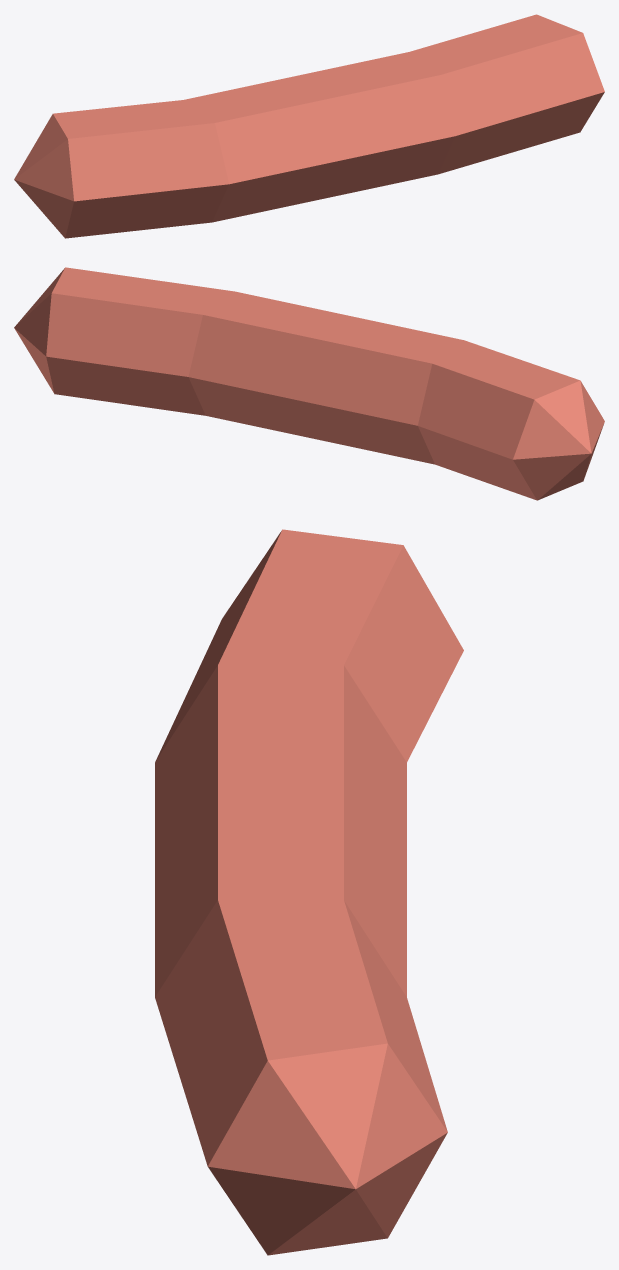
File: Sausage.fbx
3 views of the same model, one above another, from view 1: azimuth 30°, elevation 25°; view 2: azimuth 150°, elevation 25°; view 3: azimuth 270°, elevation 25° (orthographic). The views are drawn at different scales.
Visible parts, largest first — view 1: Hotdog; view 2: Hotdog; view 3: Hotdog.
Part boxes in pixels (x1=…): Hotdog: x1=14, y1=14, x2=604, y2=238; Hotdog: x1=14, y1=267, x2=604, y2=500; Hotdog: x1=155, y1=529, x2=463, y2=1255.
Size of the model in its own units: 412 by 79.05 by 96.41.
